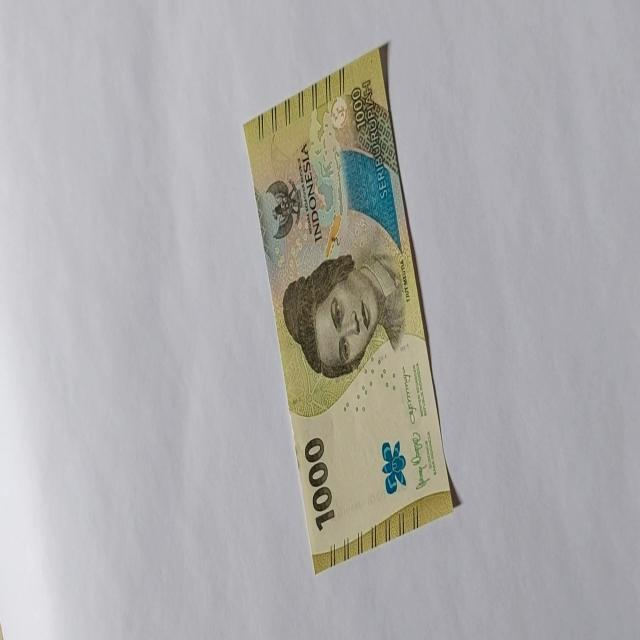seribu rupiah kertas: (242, 44, 455, 574)
